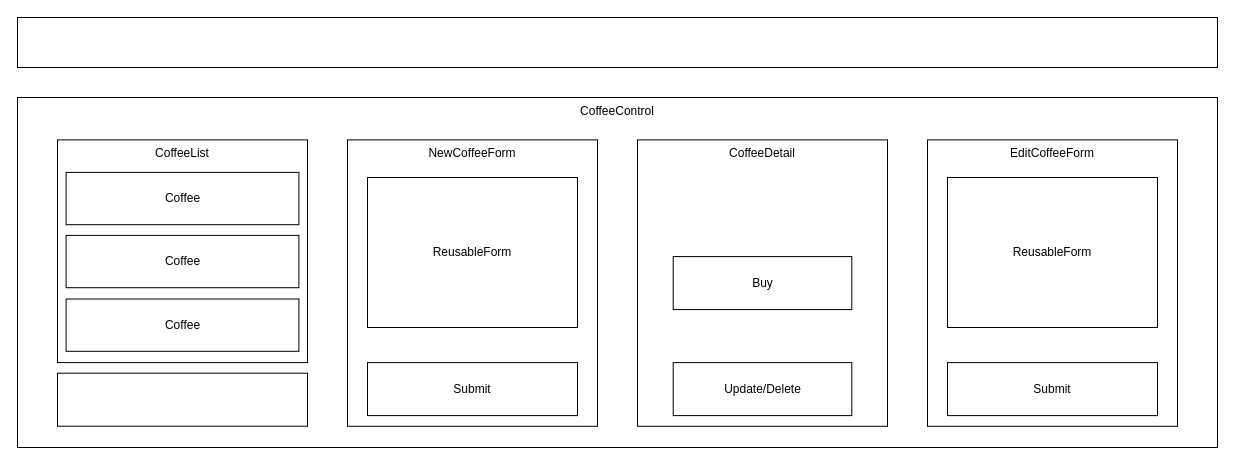
The diagram is 1235 pixels wide and 465 high, and some of its shapes have lost their labels. Each missing label, with the centre of its shape:
Add Coffee: (x=182, y=399)
Header: (x=617, y=42)
